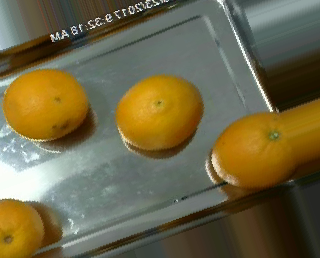Orange: (211, 110, 297, 190), (115, 74, 203, 151), (2, 69, 87, 140), (1, 199, 46, 258)
